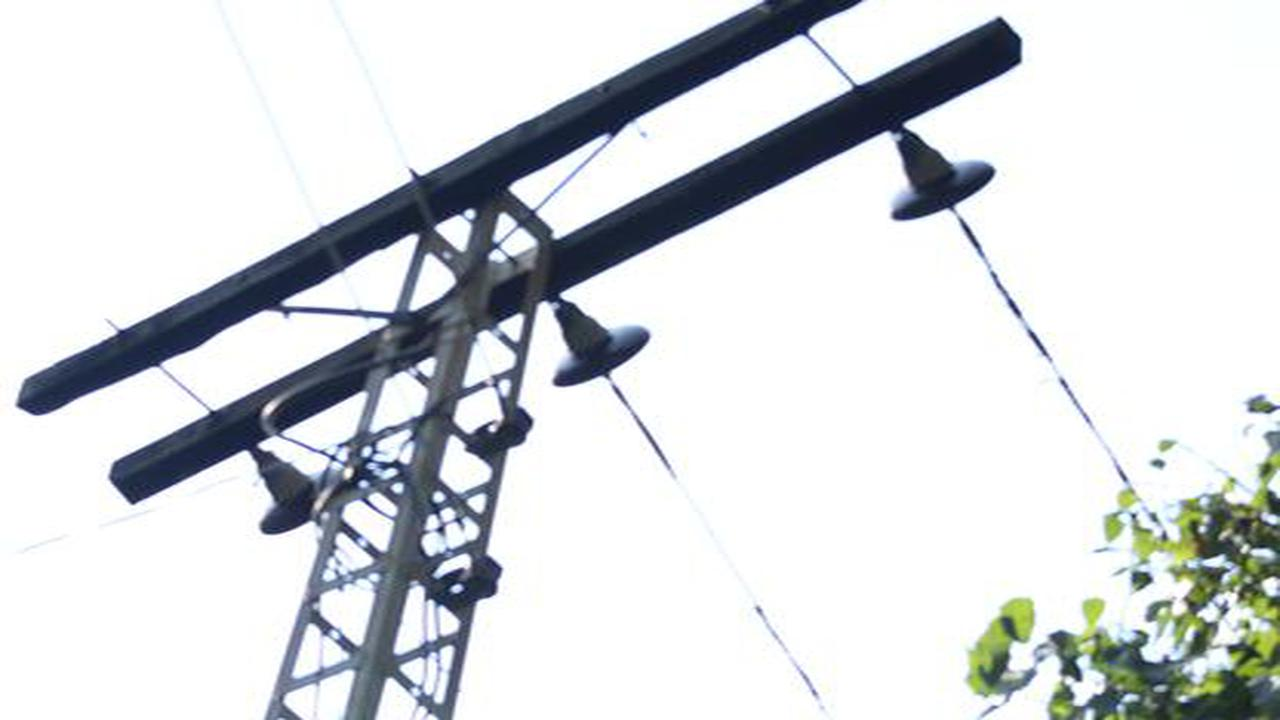insulator_disc: (883, 133, 999, 226), (543, 306, 660, 395), (247, 461, 344, 535)
